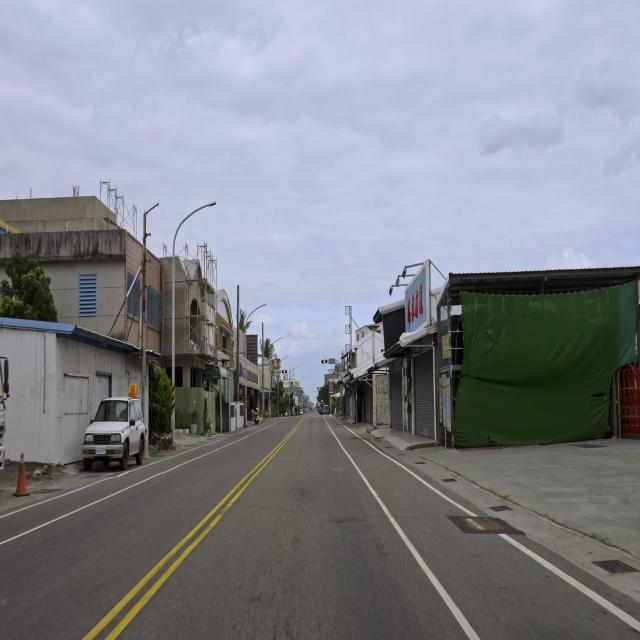yellow light: (321, 359, 328, 364), (282, 369, 288, 374)
